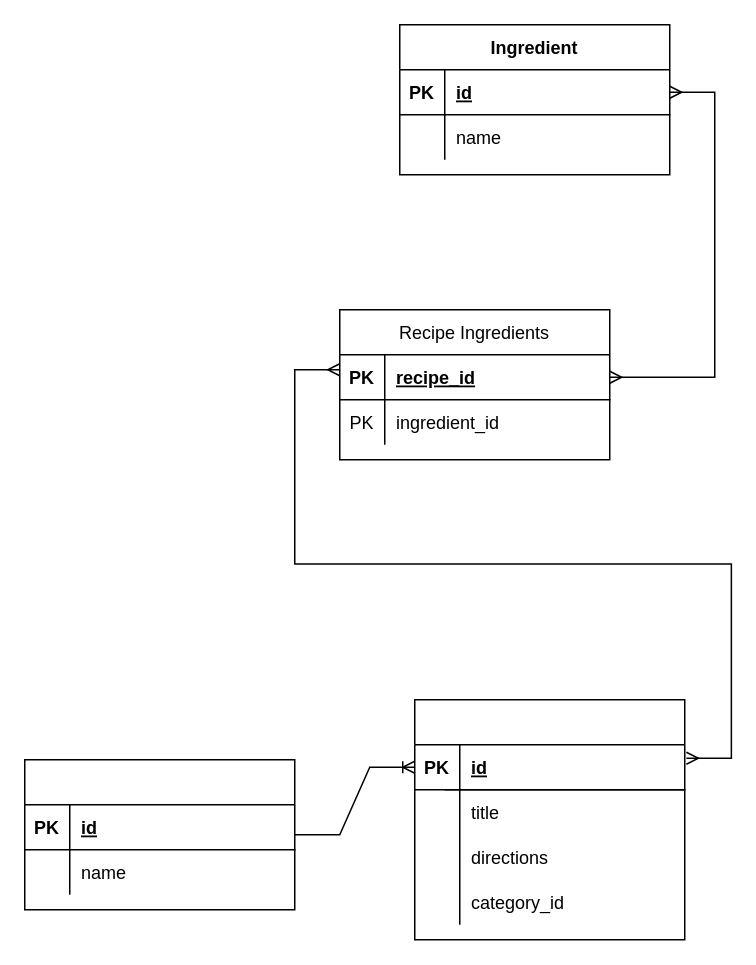
Some shapes in this 756 by 965 pixel diagram are drawn without their labels. Here are the shapes that lost their labels. From the top down, the box of each, then its label:
(23, 758, 295, 910): Category
(413, 698, 685, 940): Recipe
